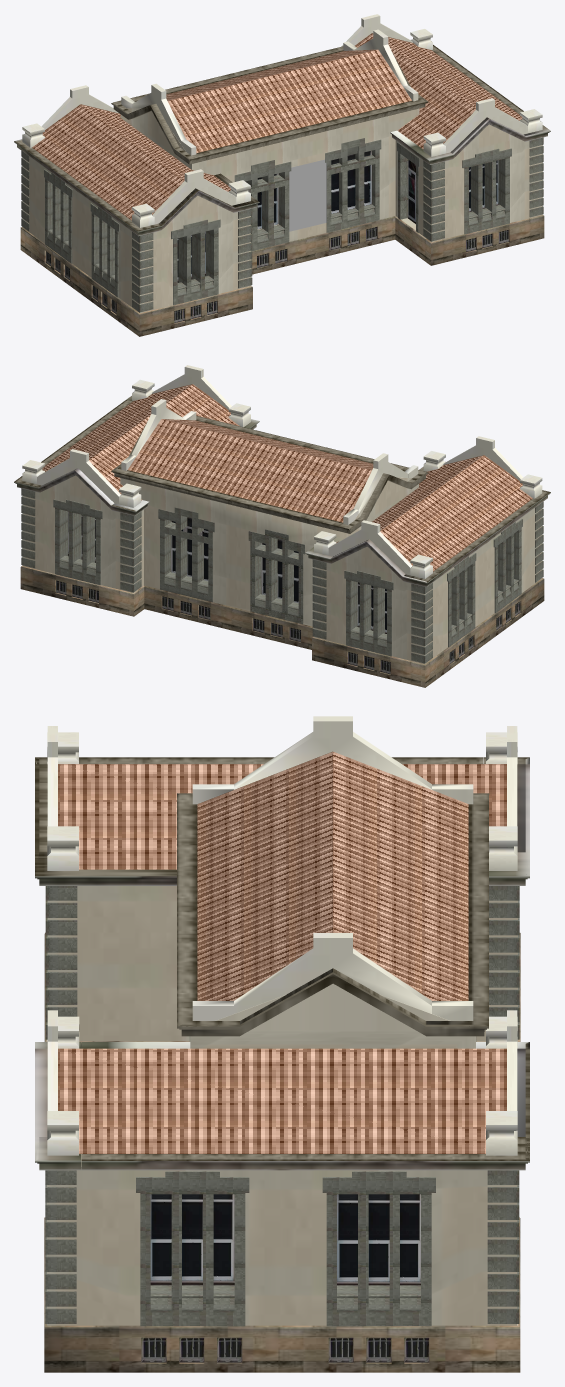
Rendered from Gaitas.FBX.
3 views of the same model, one above another, from view 1: azimuth 30°, elevation 25°; view 2: azimuth 150°, elevation 25°; view 3: azimuth 270°, elevation 25° (orthographic). The views are drawn at different scales.
Parts seen in each view (by area): view 1: Escuela; view 2: Escuela; view 3: Escuela.
Part boxes in pixels (box(x1,y1,x2,y2)): Escuela: box(14, 14, 550, 336); Escuela: box(14, 365, 550, 687); Escuela: box(35, 716, 529, 1372).
Bounding box in the file's own units: 895 × 360 × 464.
